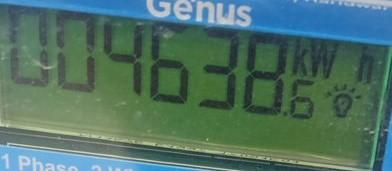.: (291, 38, 377, 90)
0: (281, 111, 290, 118)
1: (4, 5, 56, 89), (56, 10, 104, 94)
4: (197, 29, 247, 110)
5: (100, 19, 146, 102)
7: (148, 21, 194, 104), (287, 80, 320, 121)
9: (244, 32, 287, 122)
